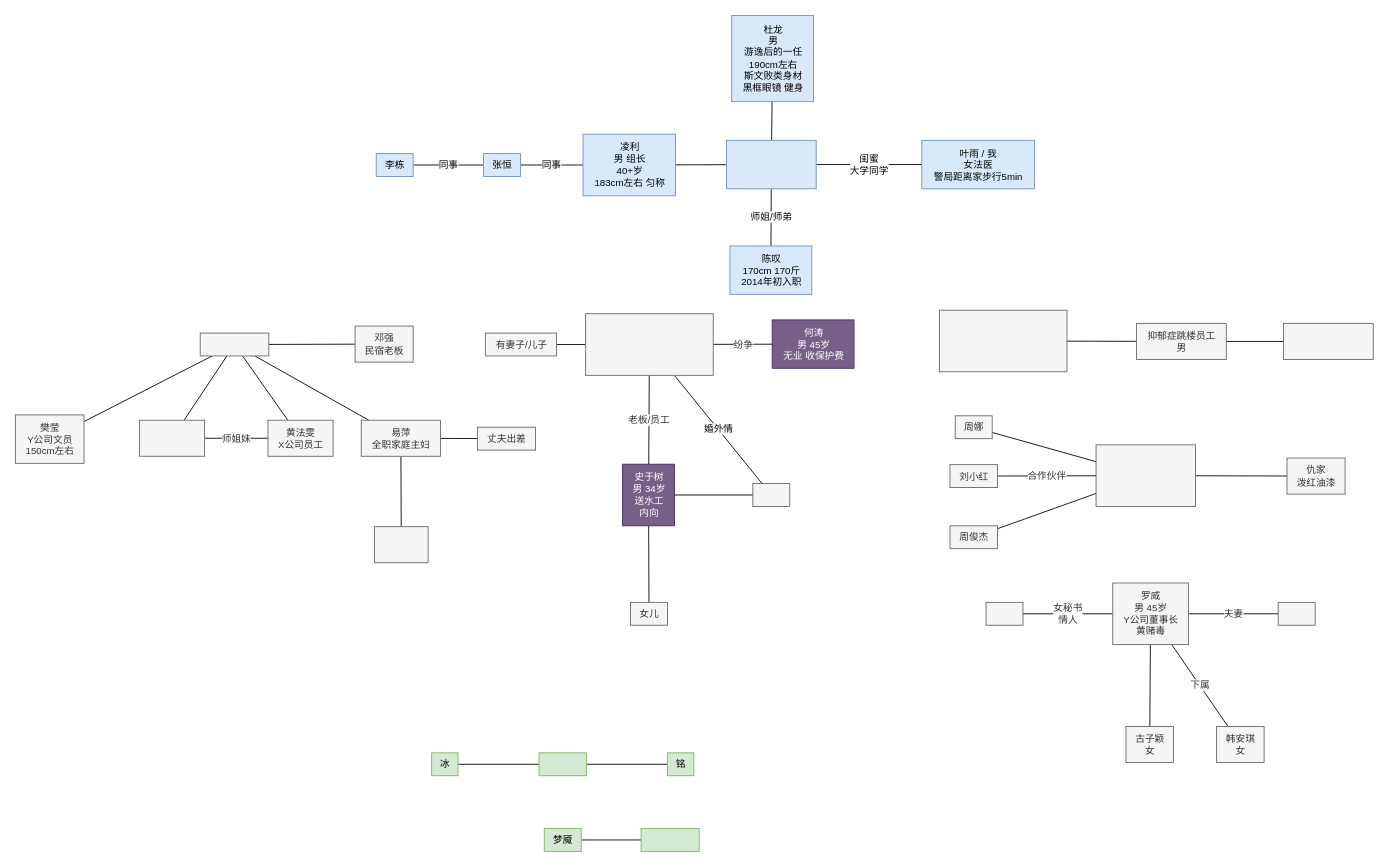
This 1389x867 diagram has some shape labels left out. Here are the shapes that lost their labels. From the top down, the centre of each, then its label:
At [771,164]: "游逸 女 跟叶雨体型相似".
At [234,344]: "四名大学生".
At [649,344]: "莫铭 男 42岁 知识分子 对密码 推理 刑侦有研究".
At [1003,340]: "仝伟 女 42岁 X公司女高管 员工和社会人都讨厌她?".
At [1328,341]: "知情员工被辞职 社会人士".
At [172,437]: "戴晓菲 Y公司策划".
At [771,494]: "妻子".
At [1145,475]: "伍榕 女 39岁 项目经理 1年前从X跳槽到Y".
At [401,544]: "女儿 3个月大".
At [1004,613]: "胡玲".
At [1296,613]: "罗婷".
At [562,764]: "小恶魔".
At [669,839]: "似水流年".
